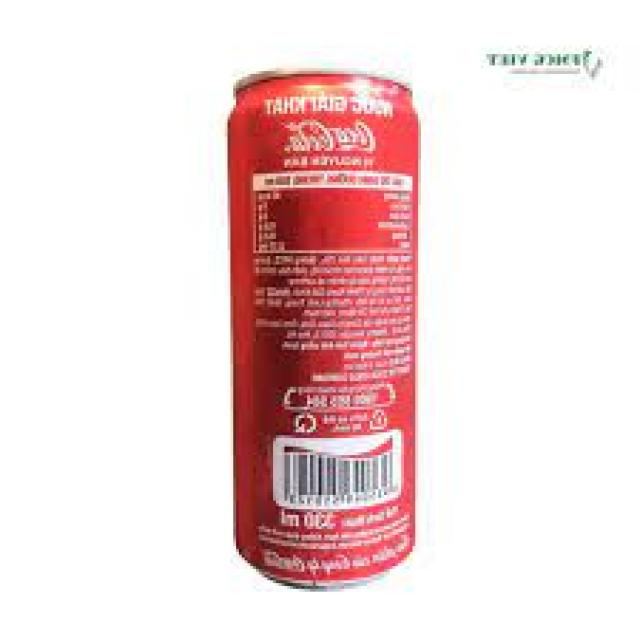Coca-Cola: (222, 70, 433, 600)
